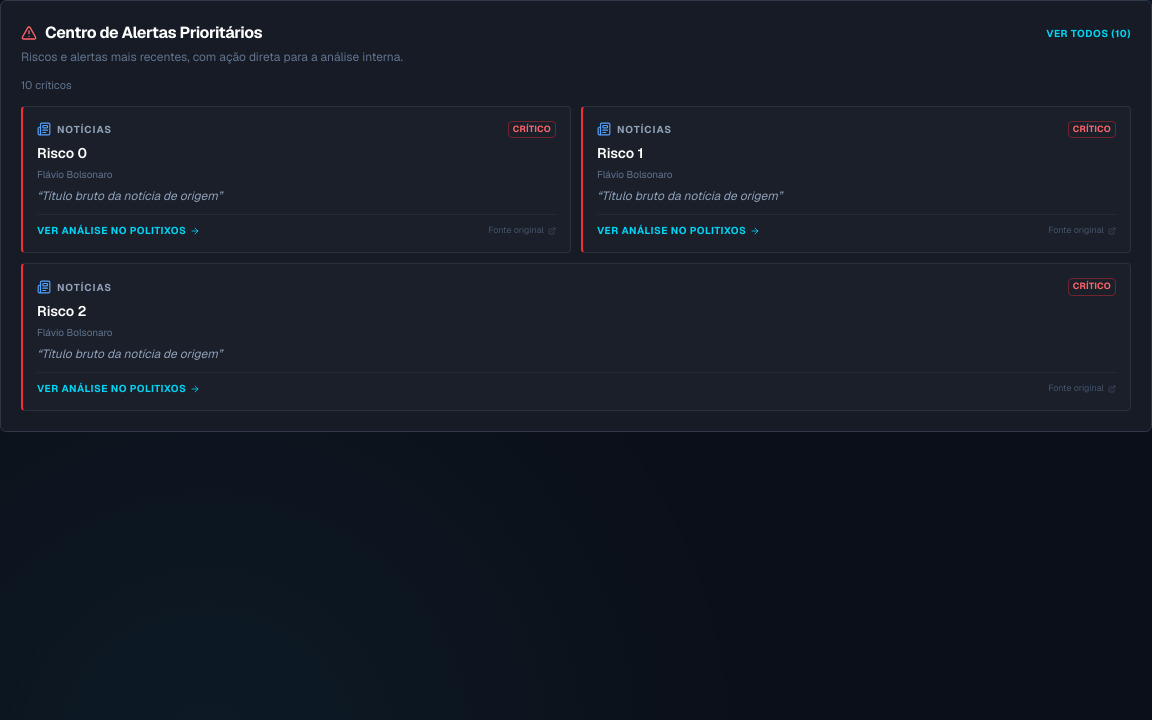
it: PriorityAlertsCenter — consolidação de Riscos e Alertas Prioritários (Sprint UX — Etapa 4) › limita a exibição inicial a 3 e permite expandir com "Ver todos"
Expected: the text "Risco 0" is shown 3 times, x1=37 y1=144 x2=87 y2=162; x1=597 y1=144 x2=644 y2=162; x1=37 y1=302 x2=87 y2=320
Click the button "Ver todos (10)" at (1089, 33), box x1=1046 y1=26 x2=1131 y2=40
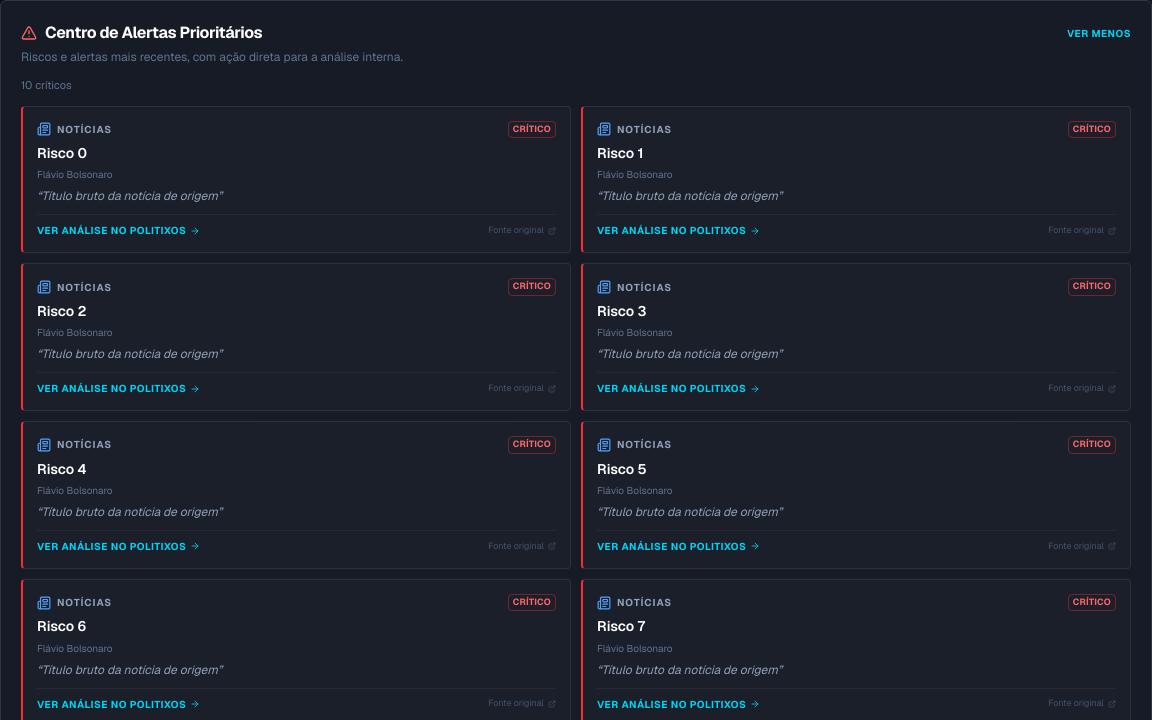
Now the text "Risco 0" is shown 10 times
